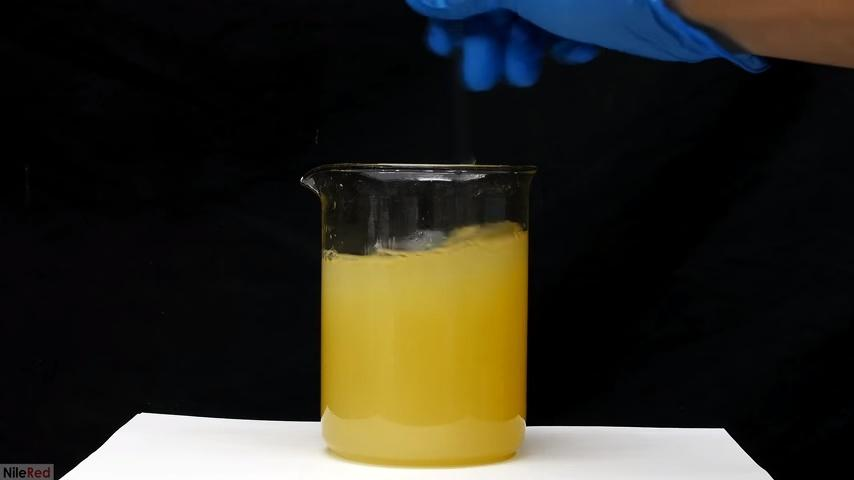Beaker: (290, 156, 548, 465)
